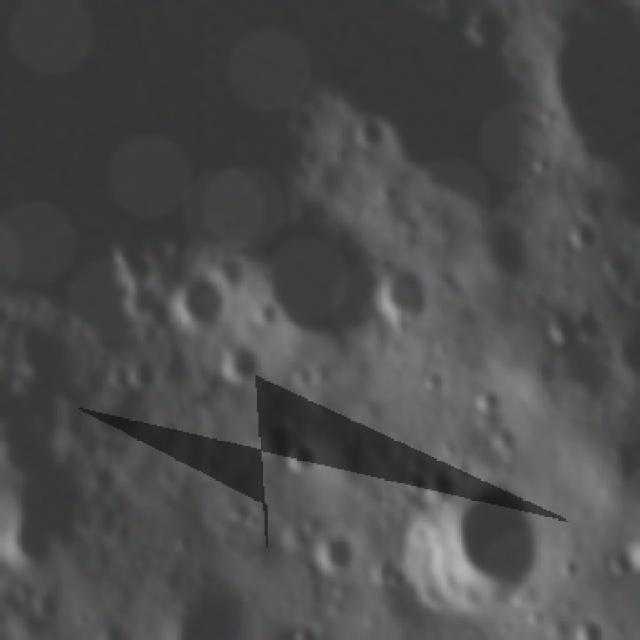crater: (388, 474, 548, 614), (228, 214, 378, 360), (527, 0, 640, 180), (0, 454, 98, 577), (143, 578, 254, 640), (373, 258, 433, 336), (160, 271, 228, 338), (472, 218, 530, 280), (453, 0, 515, 54), (301, 528, 356, 581), (217, 333, 260, 390), (341, 115, 388, 159), (563, 296, 606, 342), (282, 440, 328, 482), (92, 353, 132, 398), (122, 353, 160, 396), (542, 304, 582, 344), (372, 550, 410, 590), (562, 213, 600, 253), (422, 463, 458, 503), (600, 542, 634, 583), (564, 609, 608, 640), (470, 380, 502, 422), (416, 365, 452, 397), (553, 548, 585, 582), (381, 0, 457, 14), (397, 466, 428, 500), (283, 362, 314, 395), (0, 297, 23, 340), (90, 618, 130, 640), (288, 617, 322, 640), (626, 526, 640, 580), (530, 150, 553, 182), (607, 631, 640, 640), (0, 553, 2, 599)
